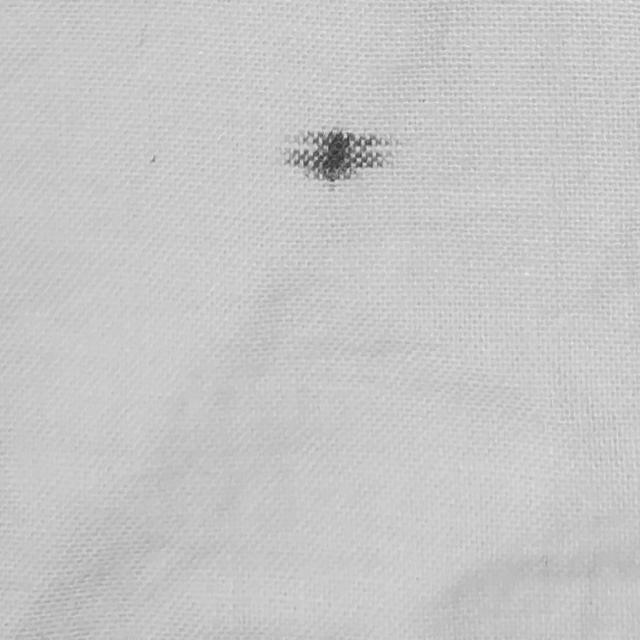Stain: (286, 123, 384, 188)
